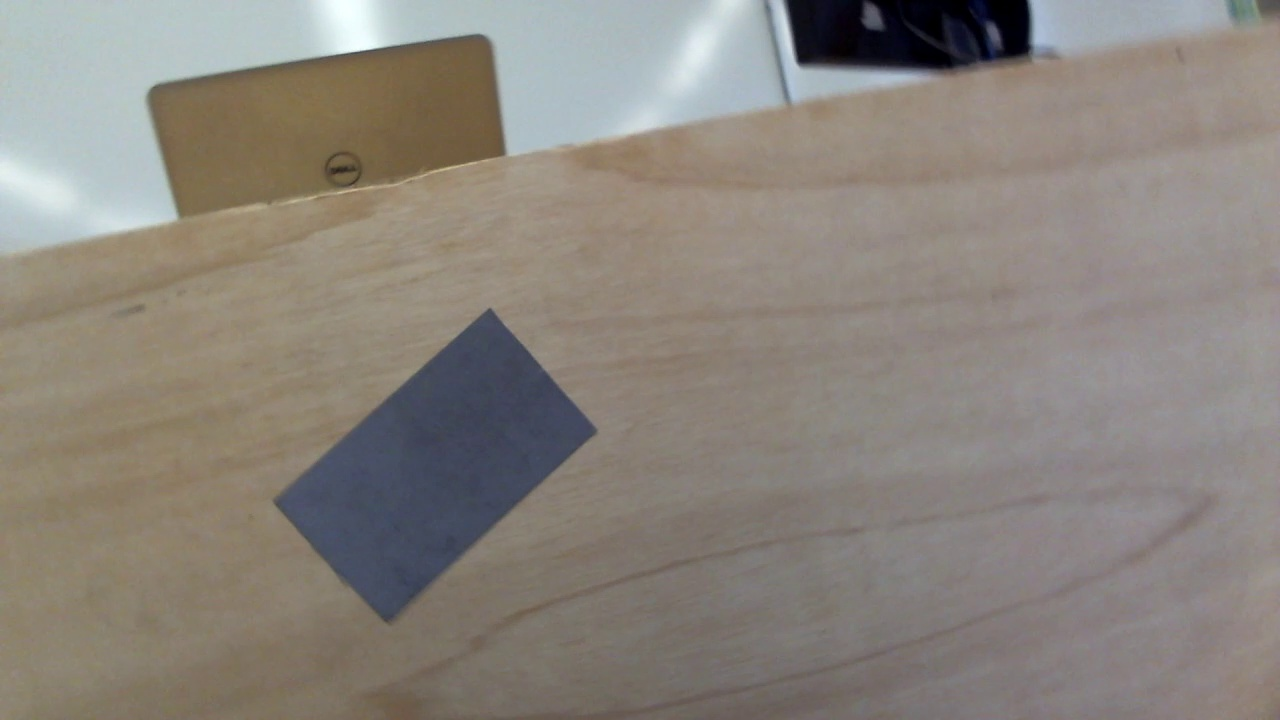Tape: (273, 311, 601, 625)
